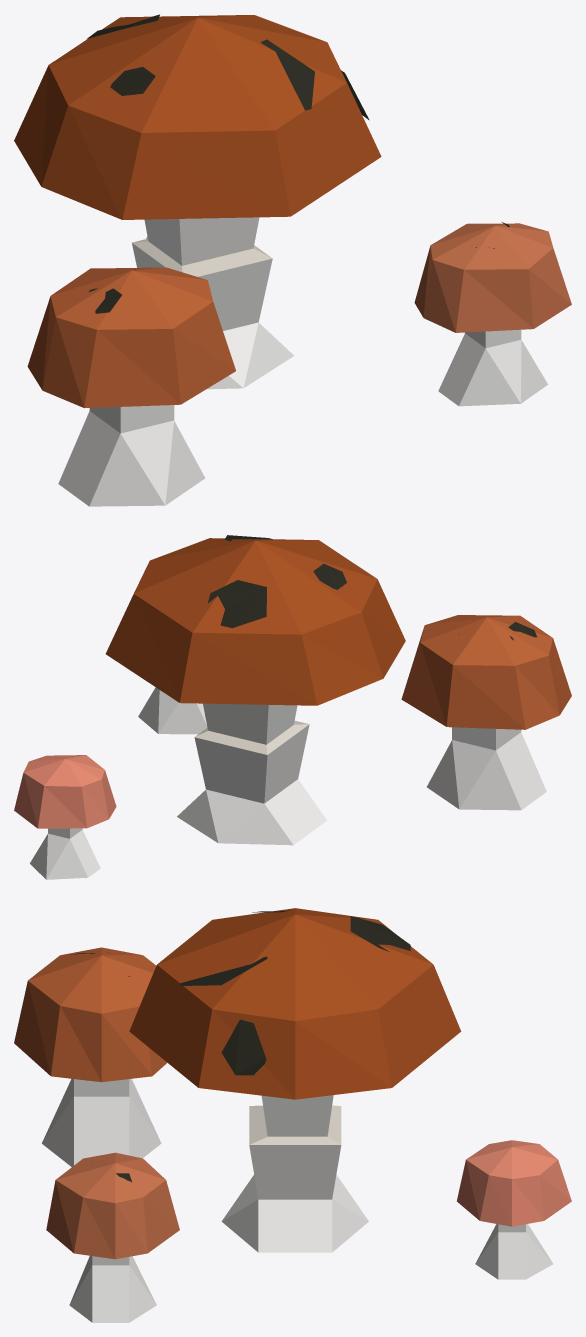
File: obj_mushrooms_2_0.obj
3 views of the same model, one above another, from view 1: azimuth 30°, elevation 25°; view 2: azimuth 150°, elevation 25°; view 3: azimuth 270°, elevation 25° (orthographic). The views are drawn at different scales.
Bounding box in the file's own units: 0.9219 × 0.5703 × 0.9453.
